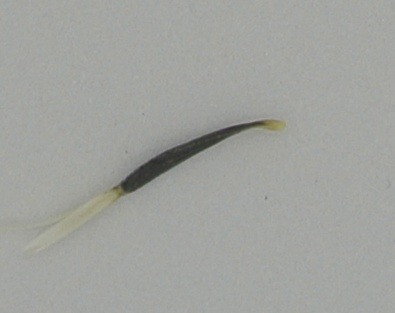เมล็ดดีเรียวยาว: (2, 116, 289, 261)
